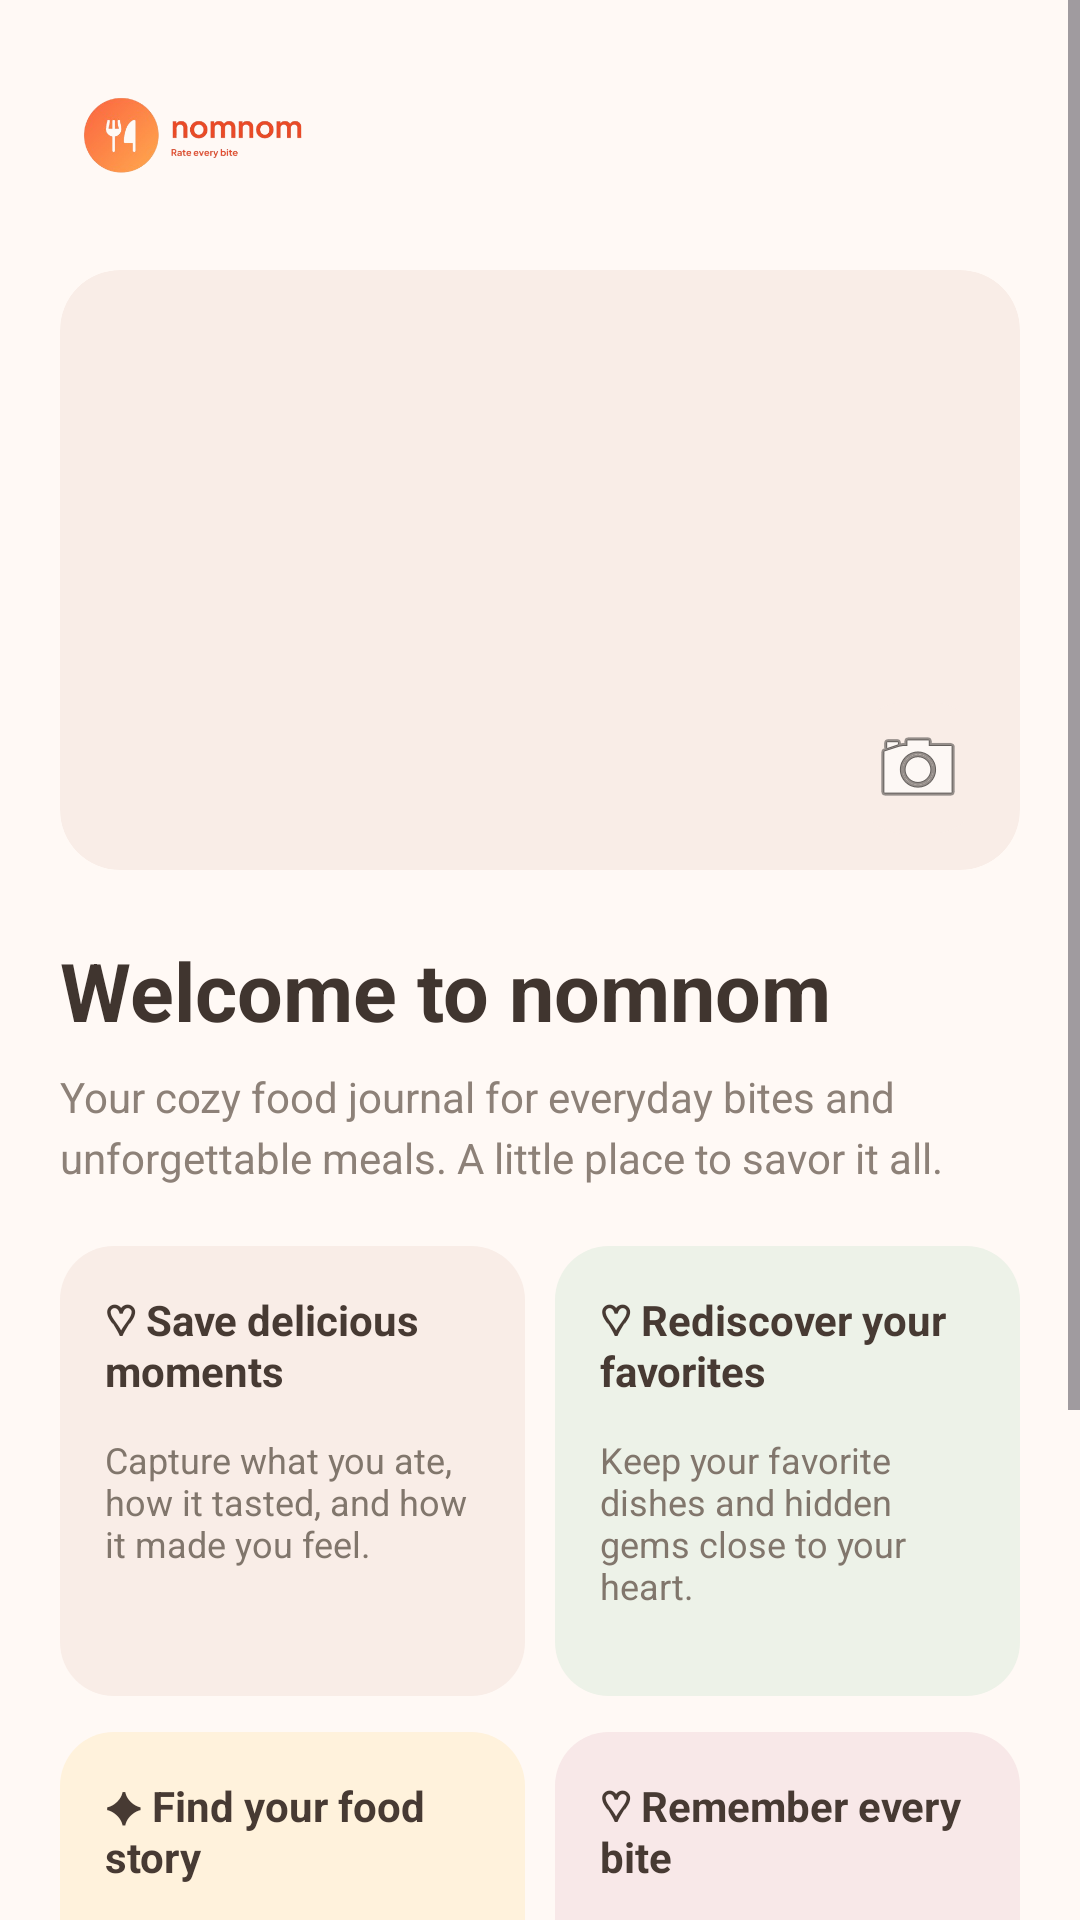

Locate icon controls on the screen. Image size 1080 × 1920, boxes as (x1, y1, x2, y2).
Change photo: (881, 737, 955, 796)
